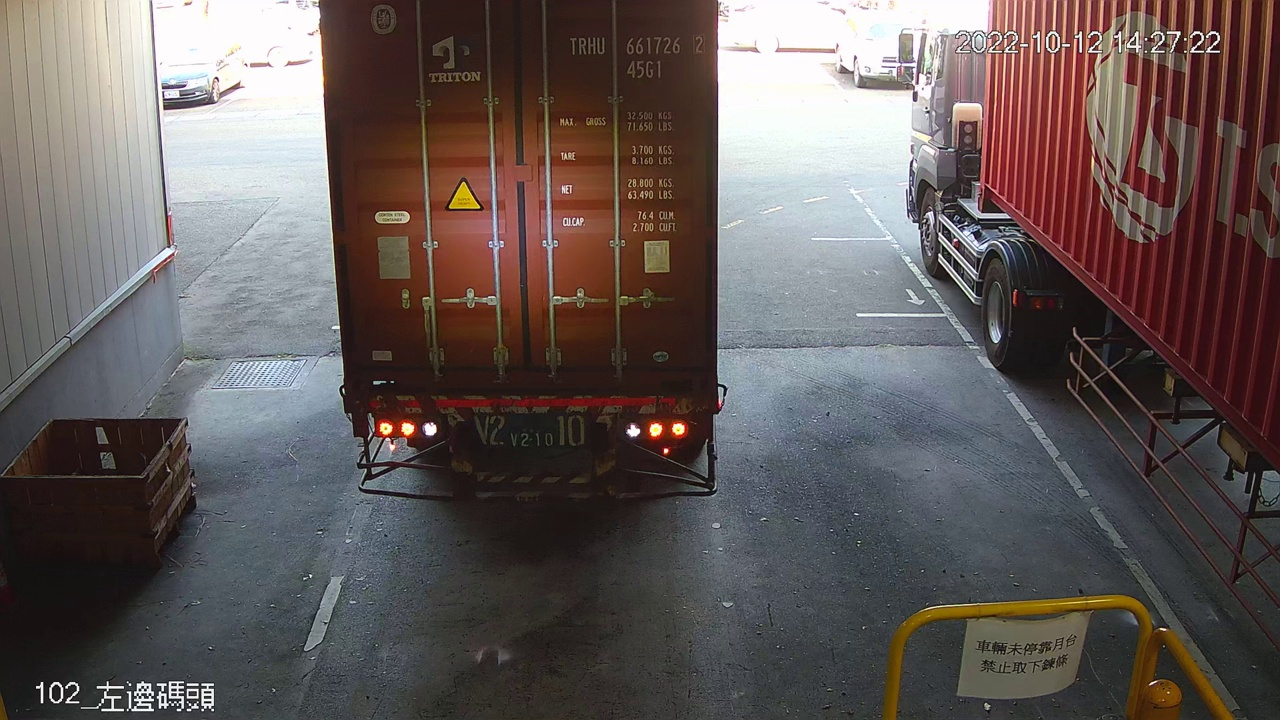container: (562, 26, 710, 84)
